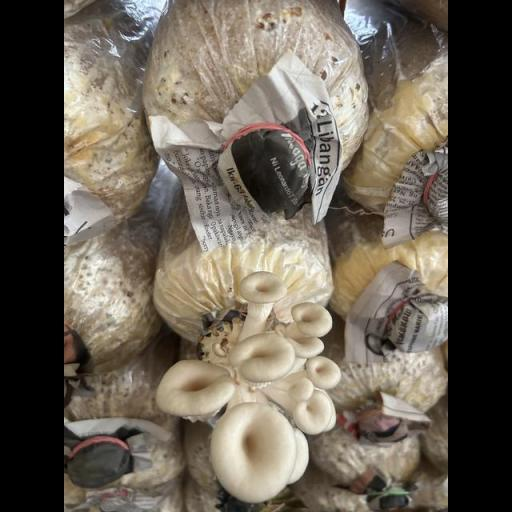White Oyster Mushroom: (138, 254, 360, 507)
